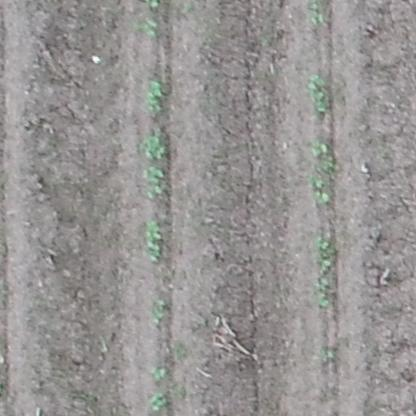vc: (305, 71, 333, 115), (143, 78, 167, 116), (145, 218, 164, 265), (143, 164, 165, 202), (141, 132, 169, 158), (309, 136, 329, 157), (139, 17, 159, 38), (149, 364, 170, 383), (314, 190, 332, 205), (317, 292, 330, 307)
